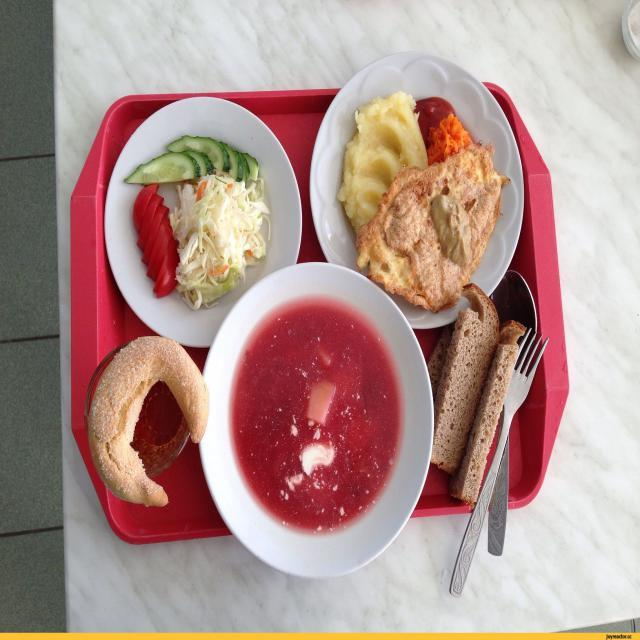plate: (189, 260, 436, 586), (306, 48, 529, 330), (99, 91, 305, 355), (416, 279, 520, 514), (74, 332, 210, 504)
